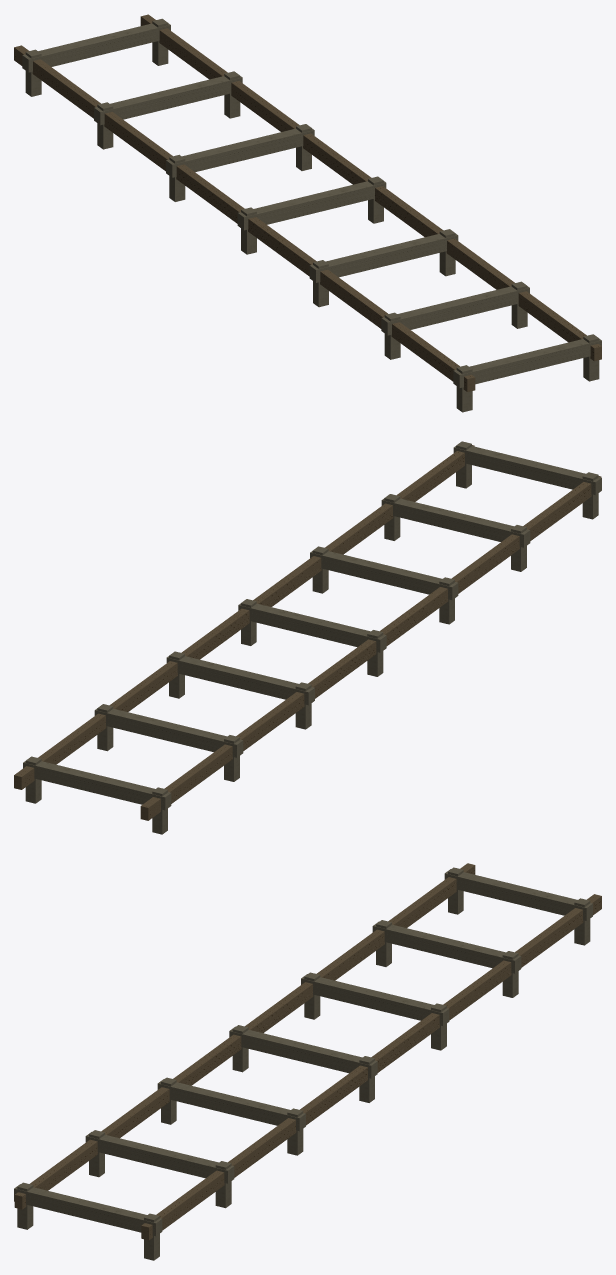
The model's file is Platform_TimberStructure.obj.
3 views of the same model, one above another, from view 1: azimuth 30°, elevation 25°; view 2: azimuth 150°, elevation 25°; view 3: azimuth 330°, elevation 25° (orthographic).
Visible parts, largest first — view 1: Platform_TimberStructure; view 2: Platform_TimberStructure; view 3: Platform_TimberStructure.
Part boxes in pixels (box(x1,y1,x2,y2)): Platform_TimberStructure: box(14, 14, 601, 412); Platform_TimberStructure: box(14, 441, 601, 834); Platform_TimberStructure: box(14, 863, 601, 1260).
Bounding box in the file's own units: 1.83 × 0.5 × 10.1.
Materials: 1 (1 with a texture image).
